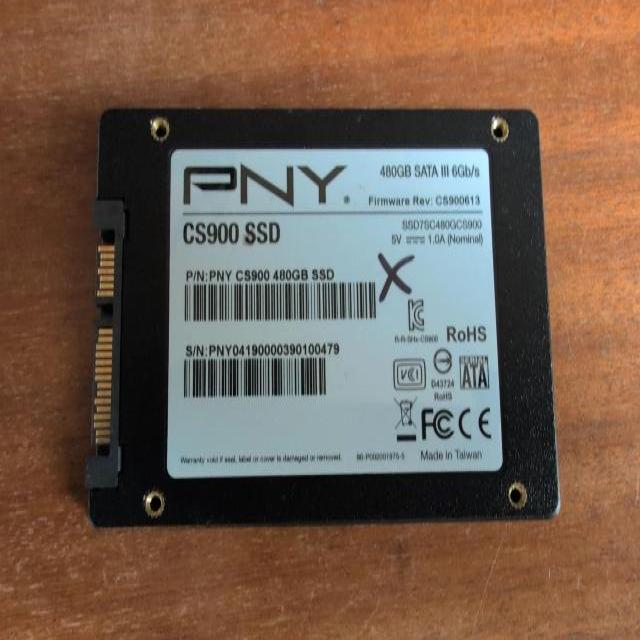DISK: (83, 106, 563, 533)
